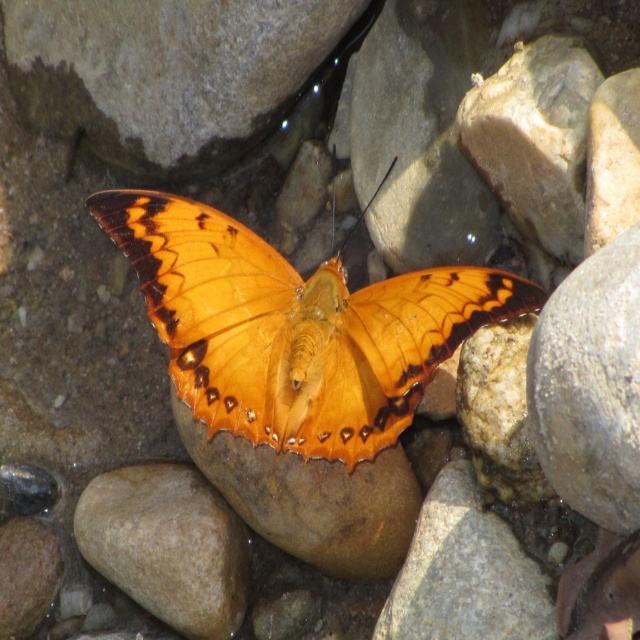Butterfly: (84, 141, 548, 475)
